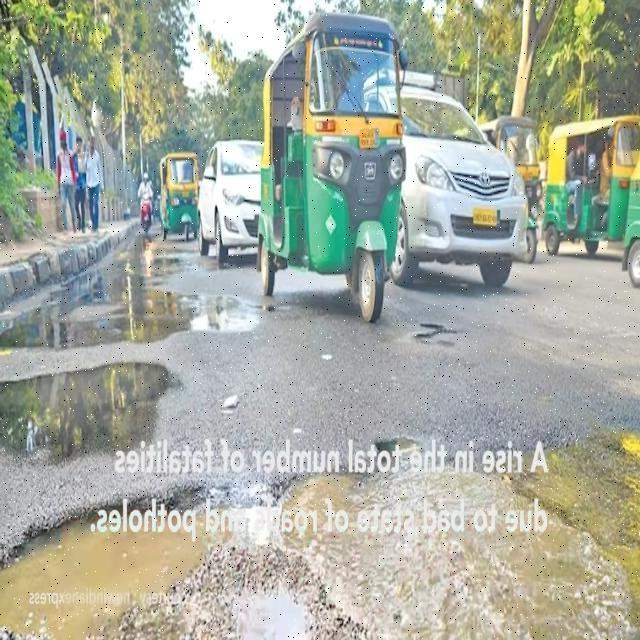pothole: (0, 464, 609, 635)
